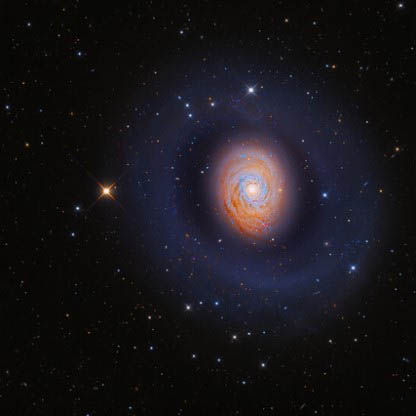Messier 94: (127, 47, 384, 330)
